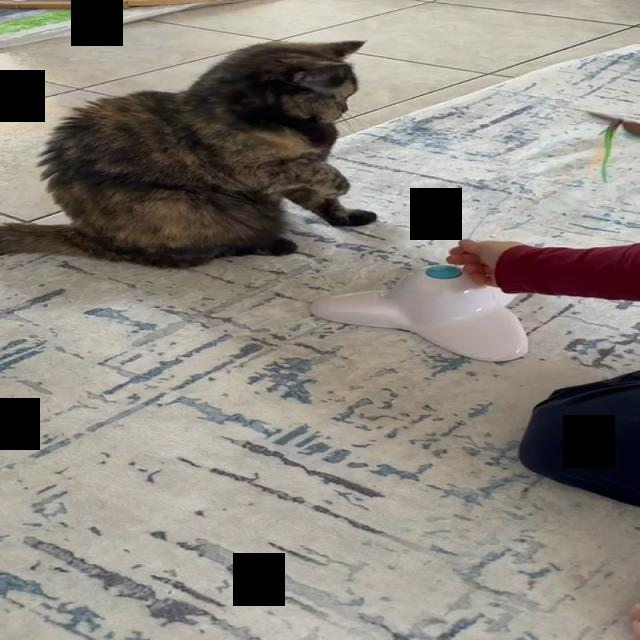authorized: (0, 38, 377, 269)
